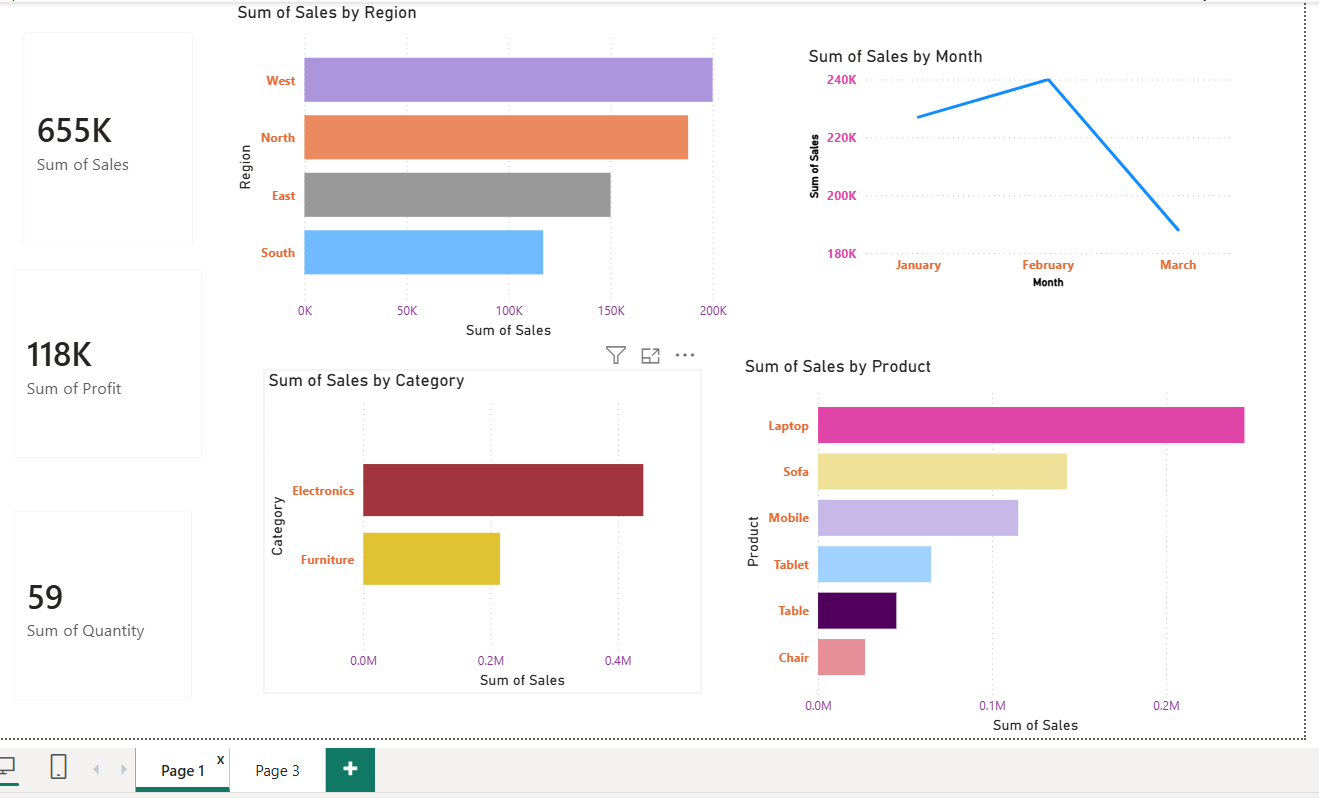

Layout of this report page (visuals, bound fields, positions):
{"tool":"powerbi","page":{"name":"Page 1","canvas":[1280,720],"ordinal":0},"visuals":[{"type":"cardVisual","fields":{"Data":["Sum(task-1 future interns.Sales)"]},"box":[9.6,12.3,200.3,244.3],"z":0},{"type":"cardVisual","fields":{"Data":["Sum(task-1 future interns.Profit)"]},"box":[0,244.3,219.6,219.6],"z":1000},{"type":"cardVisual","fields":{"Data":["Sum(task-1 future interns.Quantity)"]},"box":[0,480.3,209.9,220.9],"z":2000},{"type":"barChart","fields":{"Category":["task-1 future interns.Category"],"Y":["Sum(task-1 future interns.Sales)"]},"box":[262.1,359.5,428.1,317],"z":3000},{"type":"clusteredBarChart","fields":{"Category":["task-1 future interns.Region"],"Y":["Sum(task-1 future interns.Sales)"]},"box":[231.1,0,489.1,333.8],"z":4000},{"type":"lineChart","fields":{"Category":["task-1 future interns.Order_Date.Variation.Date Hierarchy.Month"],"Y":["Sum(task-1 future interns.Sales)"]},"box":[790.4,42.5,422.6,242.9],"z":5000},{"type":"clusteredBarChart","fields":{"Category":["task-1 future interns.Product"],"Y":["Sum(task-1 future interns.Sales)"]},"box":[727.3,345.8,521.4,374.6],"z":6000}]}

Visuals, with their boxes on the page's 1280x720 design canvas (x1, y1, x2, y2). These are canvas units, not pixel positions in the 1319x798 screenshot, which may show the page scaled, cropped or inside an application window:
cardVisual - Sum(task-1 future interns.Sales): bbox=(10, 12, 210, 257)
cardVisual - Sum(task-1 future interns.Profit): bbox=(0, 244, 220, 464)
cardVisual - Sum(task-1 future interns.Quantity): bbox=(0, 480, 210, 701)
barChart - task-1 future interns.Category x Sum(task-1 future interns.Sales): bbox=(262, 360, 690, 676)
clusteredBarChart - task-1 future interns.Region x Sum(task-1 future interns.Sales): bbox=(231, 0, 720, 334)
lineChart - task-1 future interns.Order_Date.Variation.Date Hierarchy.Month x Sum(task-1 future interns.Sales): bbox=(790, 42, 1213, 285)
clusteredBarChart - task-1 future interns.Product x Sum(task-1 future interns.Sales): bbox=(727, 346, 1249, 720)
